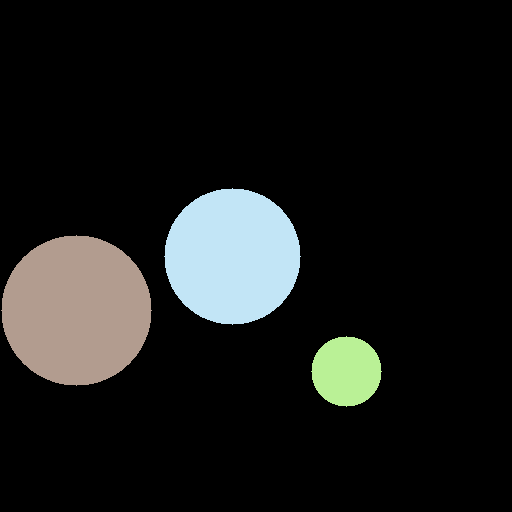circle: (1, 235, 151, 385), (164, 188, 300, 324), (311, 336, 381, 406)
